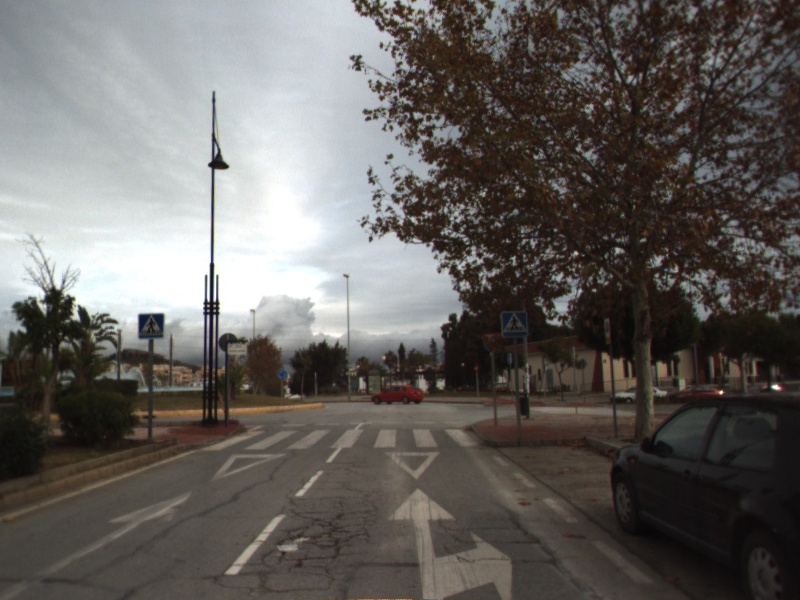STRAIGHT: (1, 487, 196, 600)
STRAIGHT_RIGHT: (383, 485, 516, 600)
